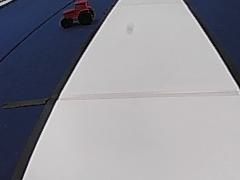Tracktor: (58, 0, 96, 29)
